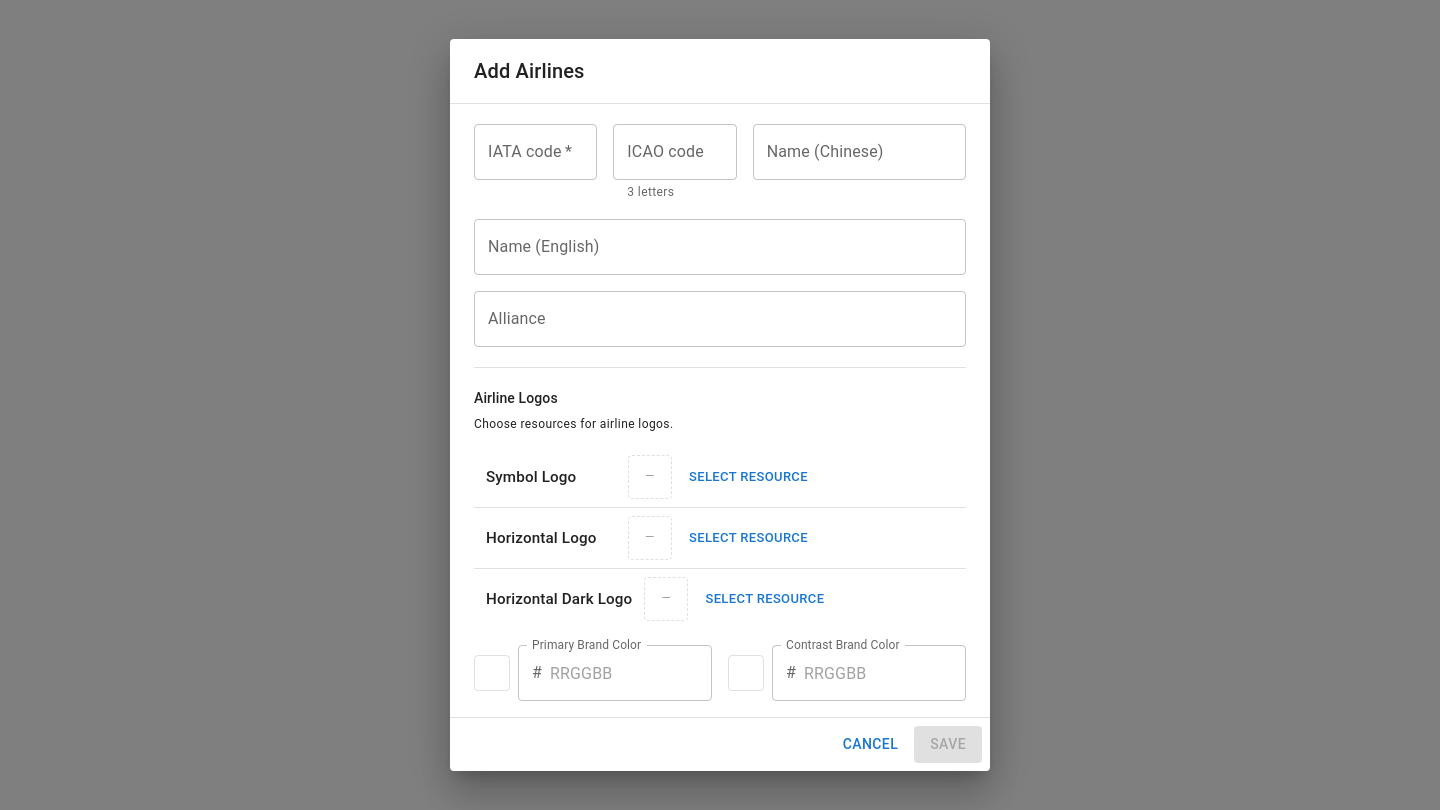
CatalogEntryDialog alliance editor › offers supplied alliance suggestions without restricting the input
The image size is (1440, 810).
Type "ZZ" into the field labelled "IATA code *" at (536, 152), box [474,124,597,180]
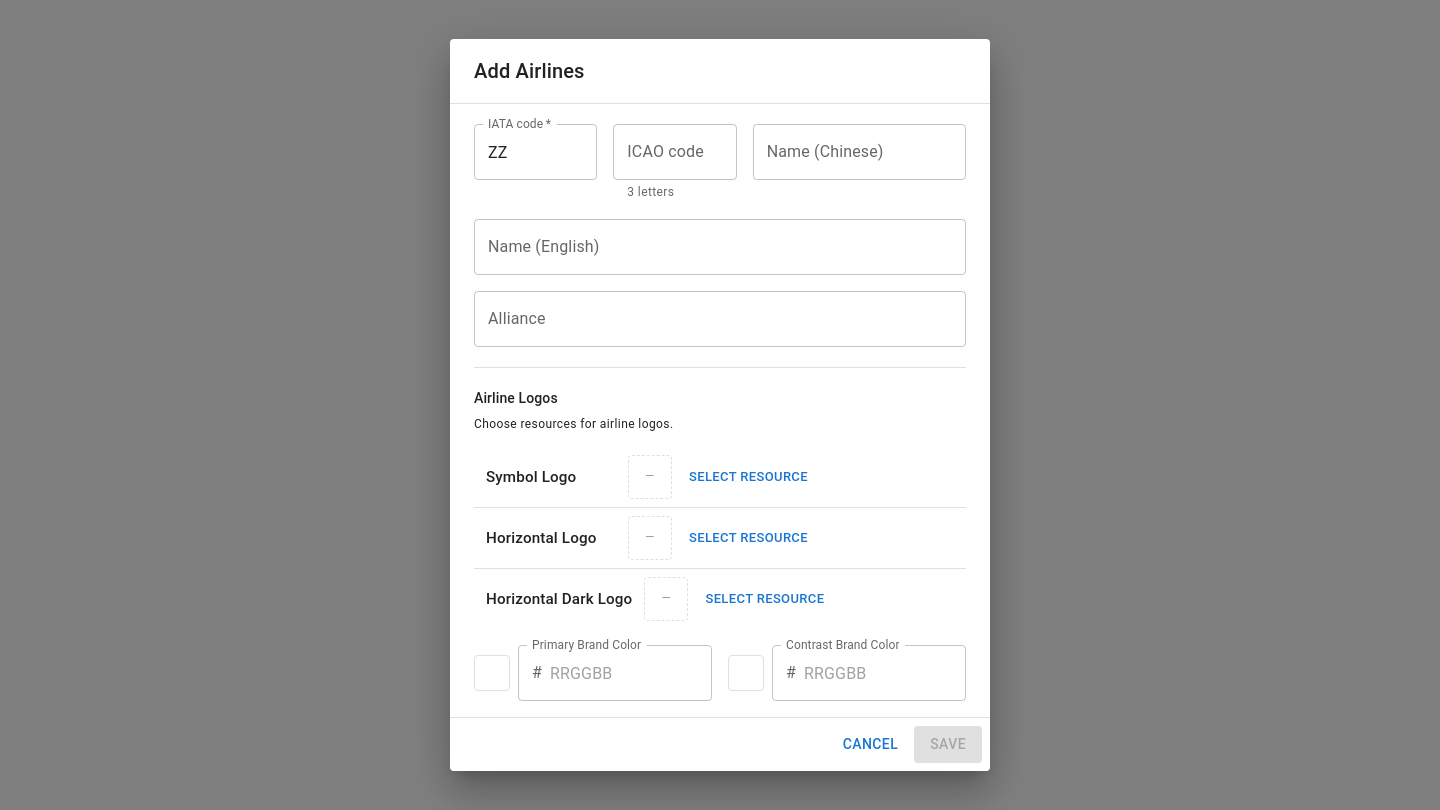
Type "Zulu Air" into the field labelled "Name (English)" at (720, 247), box [474,219,966,275]
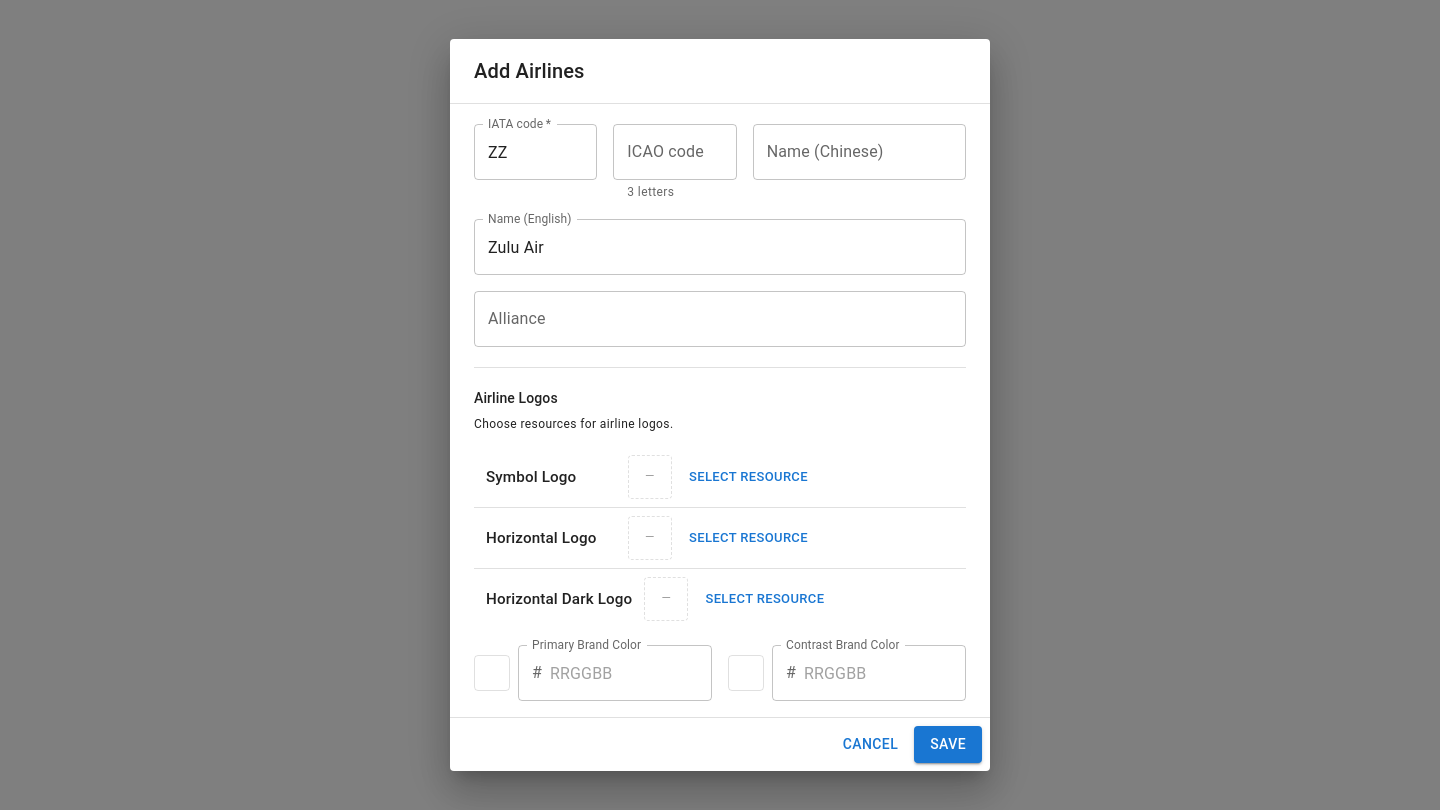
Press the mouse on the dropdown labelled "Alliance" at (705, 319), box [483,300,927,338]
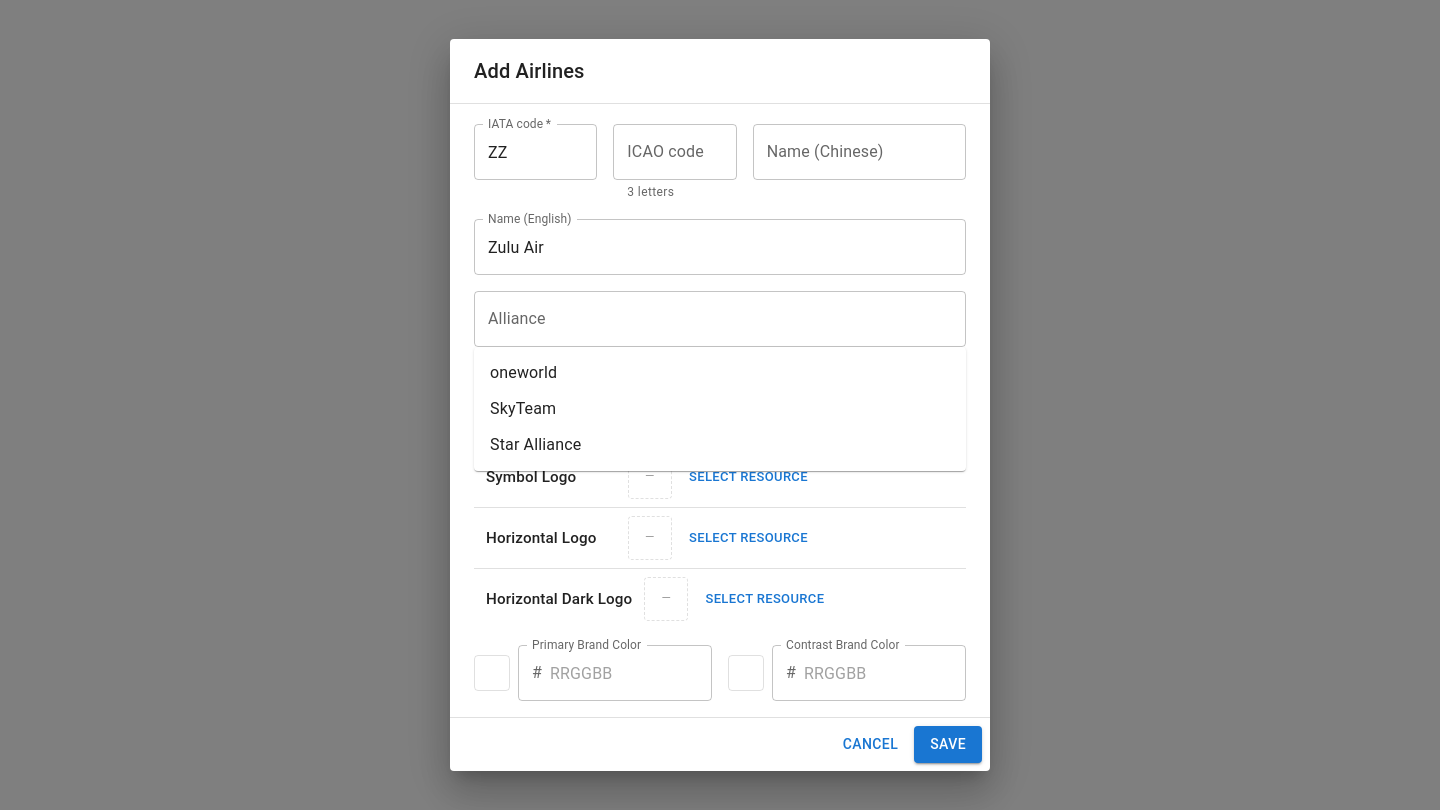
expect the options read "oneworld", "SkyTeam", "Star Alliance", in this order: met, box [490,363,557,382]; [490,399,556,418]; [490,435,581,454]
